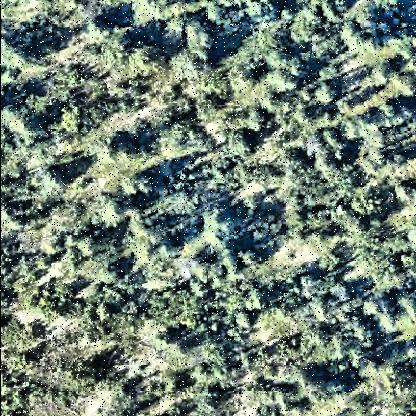tree-top: (147, 286, 207, 332), (341, 11, 395, 57), (79, 227, 127, 271), (122, 38, 162, 79), (139, 229, 183, 265), (286, 7, 322, 49), (157, 123, 199, 159), (99, 34, 137, 73), (302, 370, 338, 410), (9, 202, 57, 232), (353, 119, 395, 151), (183, 21, 217, 60), (114, 139, 154, 172), (1, 35, 31, 77), (57, 104, 89, 142), (247, 5, 284, 37), (71, 361, 105, 395), (39, 168, 73, 200), (354, 190, 388, 222), (22, 136, 55, 168), (236, 61, 271, 91), (86, 9, 116, 44), (117, 114, 153, 142), (21, 86, 49, 120), (250, 214, 284, 241), (229, 128, 259, 158), (387, 68, 416, 99), (192, 257, 224, 285), (281, 158, 313, 184), (304, 302, 336, 326), (323, 128, 350, 156), (362, 297, 388, 325), (199, 391, 228, 416), (243, 107, 268, 135), (330, 283, 354, 312), (240, 246, 265, 272), (133, 175, 160, 199), (370, 64, 394, 90), (194, 98, 220, 122), (314, 82, 338, 107), (163, 374, 186, 399), (94, 303, 118, 326), (236, 309, 256, 334), (247, 291, 267, 314)
